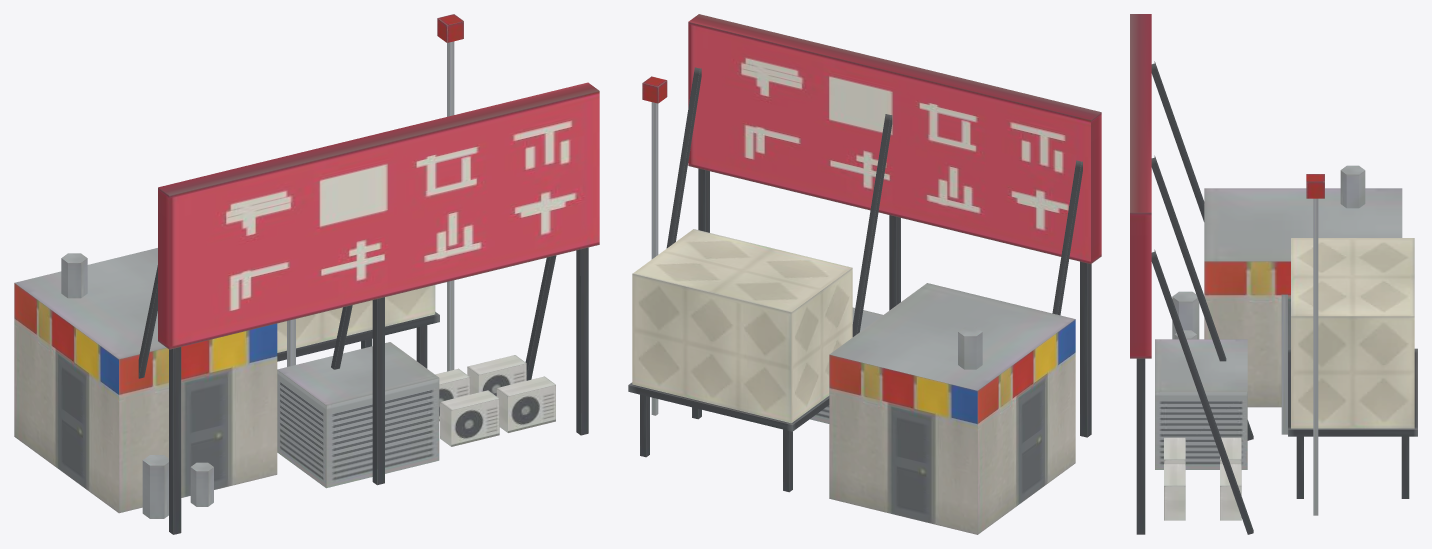
Rendered from tokyo_rooftop_mech.glb.
3 renders of one model, left to right at view 1: azimuth 30°, elevation 25°; view 2: azimuth 150°, elevation 25°; view 3: azimuth 270°, elevation 25°, orthographic. The views are drawn at different scales.
Parts seen in each view (by area): view 1: tokyo_rooftop_mech; view 2: tokyo_rooftop_mech; view 3: tokyo_rooftop_mech.
Boxes of the visible parts, x1,y1,x2,y2 form: tokyo_rooftop_mech: [14, 14, 599, 534]; tokyo_rooftop_mech: [628, 14, 1101, 534]; tokyo_rooftop_mech: [1130, 14, 1417, 534].
Bounding box in the file's own units: 7.8 × 6.02 × 4.65.
Materials: 1 (1 with a texture image).
